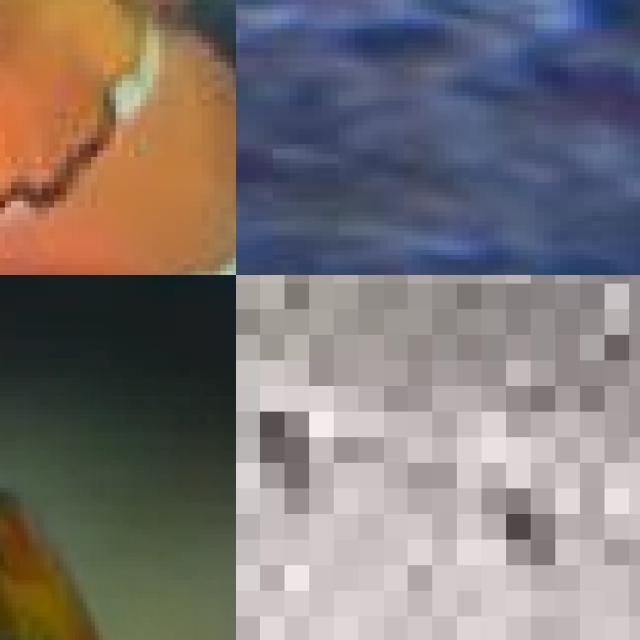fish: (236, 275, 640, 640), (0, 275, 236, 640), (0, 0, 236, 275)
